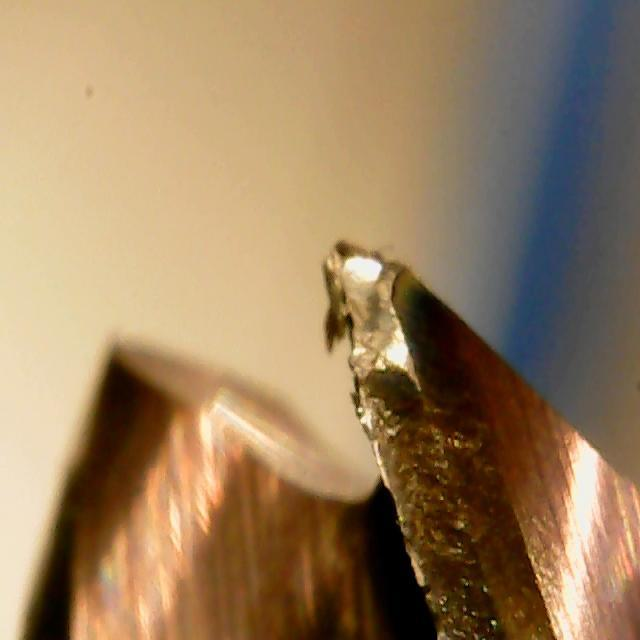Tool-wear-class-2: (316, 234, 510, 612)
